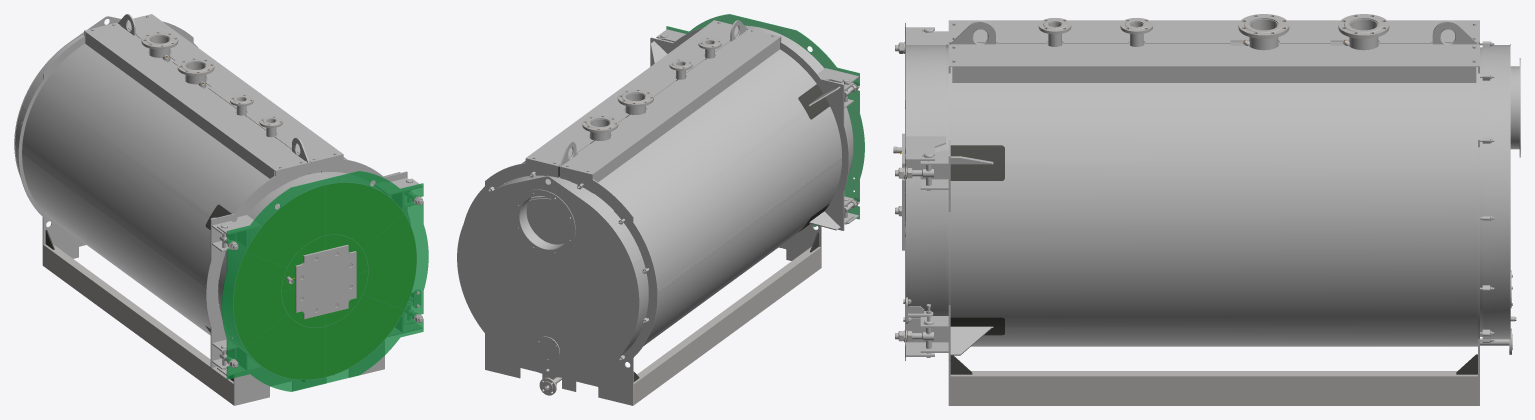
Rendered from e-2000-20260925-AFMc05OU.glb.
3 views of the same model, side by side, from view 1: azimuth 30°, elevation 25°; view 2: azimuth 150°, elevation 25°; view 3: azimuth 270°, elevation 25° (orthographic). The views are drawn at different scales.
Parts seen in each view (by area): view 1: PR.01.01.01.007 Обшивка корпуса:1, PR.05.01.01.090 Лист ФД:1, PR.08.01.01.003-01 Изоляция ФД:2, PR.05.01.01.093-01 Лист площадки:2, ГОСТ 8240-97 18P-2904:2, PR.05.01.01.093-00 Лист площадки:1, PR.05.01.01.088-01 Лист ФО:2, PR.01.01.01.008-02 Обечайка ФД и ЗК:1, PR.05.01.01.022-01 Плита горелки:1, PR.08.01.01.004-01 Изоляция ФД:4, PR.05.01.01.033-02 Ребро площадки:2, PR.05.01.01.089-01 Лист ЗО:2 (+6 smaller); view 2: PR.01.01.01.007 Обшивка корпуса:1, PR.05.01.01.091 Лист ЗК:1, PR.05.01.01.093-01 Лист площадки:2, ГОСТ 8240-97 18P-2904:2, PR.05.01.01.093-00 Лист площадки:1, PR.05.01.01.089-01 Лист ЗО:2, PR.05.01.01.088-01 Лист ФО:2, PR.05.01.01.090 Лист ФД:1, PR.01.01.01.008-03 Обечайка ФД и ЗК:1, PR.05.01.01.033-02 Ребро площадки:2, PR.05.01.01.089-00 Лист ЗО:1, PR.05.01.01.004-01 Дно заглушки:1 (+8 smaller); view 3: PR.01.01.01.007 Обшивка корпуса:1, ГОСТ 8240-97 18P-2904:1, PR.05.01.01.093-00 Лист площадки:1, PR.01.01.01.008-02 Обечайка ФД и ЗК:1, PR.05.01.01.093-01 Лист площадки:2, PR.05.01.01.033-02 Ребро площадки:1, PR.01.01.01.008-03 Обечайка ФД и ЗК:1, PR.05.01.01.082-01 Накладка обшивки:1, SOLID (×2), PR.01.01.01.004-02 Обечайка корпуса:1, PR.03.01.01.002-01 Труба входа и выхода:1 (×2), PR.05.01.01.088-00 Лист ФО:1 (+7 smaller).
Boxes of the visible parts, <box> form: PR.01.01.01.007 Обшивка корпуса:1: <box>22,29,347,335</box>; PR.05.01.01.090 Лист ФД:1: <box>221,171,428,391</box>; PR.08.01.01.003-01 Изоляция ФД:2: <box>233,183,416,379</box>; PR.05.01.01.093-01 Лист площадки:2: <box>84,23,307,171</box>; ГОСТ 8240-97 18P-2904:2: <box>43,244,233,404</box>; PR.05.01.01.093-00 Лист площадки:1: <box>127,14,343,162</box>; PR.05.01.01.088-01 Лист ФО:2: <box>205,163,309,405</box>; PR.01.01.01.008-02 Обечайка ФД и ЗК:1: <box>218,172,416,379</box>; PR.05.01.01.022-01 Плита горелки:1: <box>295,245,356,319</box>; PR.08.01.01.004-01 Изоляция ФД:4: <box>282,235,367,327</box>; PR.05.01.01.033-02 Ребро площадки:2: <box>85,32,274,178</box>; PR.05.01.01.089-01 Лист ЗО:2: <box>18,23,117,265</box>; PR.01.01.01.007 Обшивка корпуса:1: <box>522,35,841,345</box>; PR.05.01.01.091 Лист ЗК:1: <box>457,176,639,377</box>; PR.05.01.01.093-01 Лист площадки:2: <box>561,28,781,174</box>; ГОСТ 8240-97 18P-2904:2: <box>633,247,820,404</box>; PR.05.01.01.093-00 Лист площадки:1: <box>525,20,738,166</box>; PR.05.01.01.089-01 Лист ЗО:2: <box>559,166,657,405</box>; PR.05.01.01.088-01 Лист ФО:2: <box>747,29,849,267</box>; PR.05.01.01.090 Лист ФД:1: <box>666,14,864,227</box>; PR.01.01.01.008-03 Обечайка ФД и ЗК:1: <box>495,175,648,357</box>; PR.05.01.01.033-02 Ребро площадки:2: <box>593,38,779,182</box>; PR.05.01.01.089-00 Лист ЗО:1: <box>463,159,559,385</box>; PR.05.01.01.004-01 Дно заглушки:1: <box>526,198,569,244</box>; PR.01.01.01.007 Обшивка корпуса:1: <box>950,41,1477,346</box>; ГОСТ 8240-97 18P-2904:1: <box>950,371,1477,405</box>; PR.05.01.01.093-00 Лист площадки:1: <box>948,43,1479,66</box>; PR.01.01.01.008-02 Обечайка ФД и ЗК:1: <box>906,45,945,317</box>; PR.05.01.01.093-01 Лист площадки:2: <box>948,20,1479,43</box>; PR.05.01.01.033-02 Ребро площадки:1: <box>952,67,1476,82</box>; PR.01.01.01.008-03 Обечайка ФД и ЗК:1: <box>1482,45,1509,339</box>; PR.05.01.01.082-01 Накладка обшивки:1: <box>950,145,1004,180</box>; SOLID (×2): <box>1238,14,1389,38</box>; PR.01.01.01.004-02 Обечайка корпуса:1: <box>946,47,1482,336</box>; PR.03.01.01.002-01 Труба входа и выхода:1 (×2): <box>1249,19,1378,50</box>; PR.05.01.01.088-00 Лист ФО:1: <box>948,67,950,405</box>.
Bounding box in the file's own units: 1.82 × 2.03 × 3.45.
